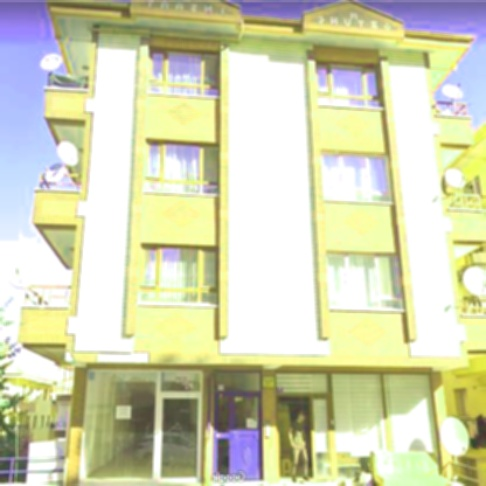door: (157, 393, 202, 481), (231, 394, 261, 480)
